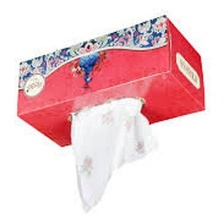book: (14, 12, 209, 150)
tissue: (66, 94, 162, 216)
